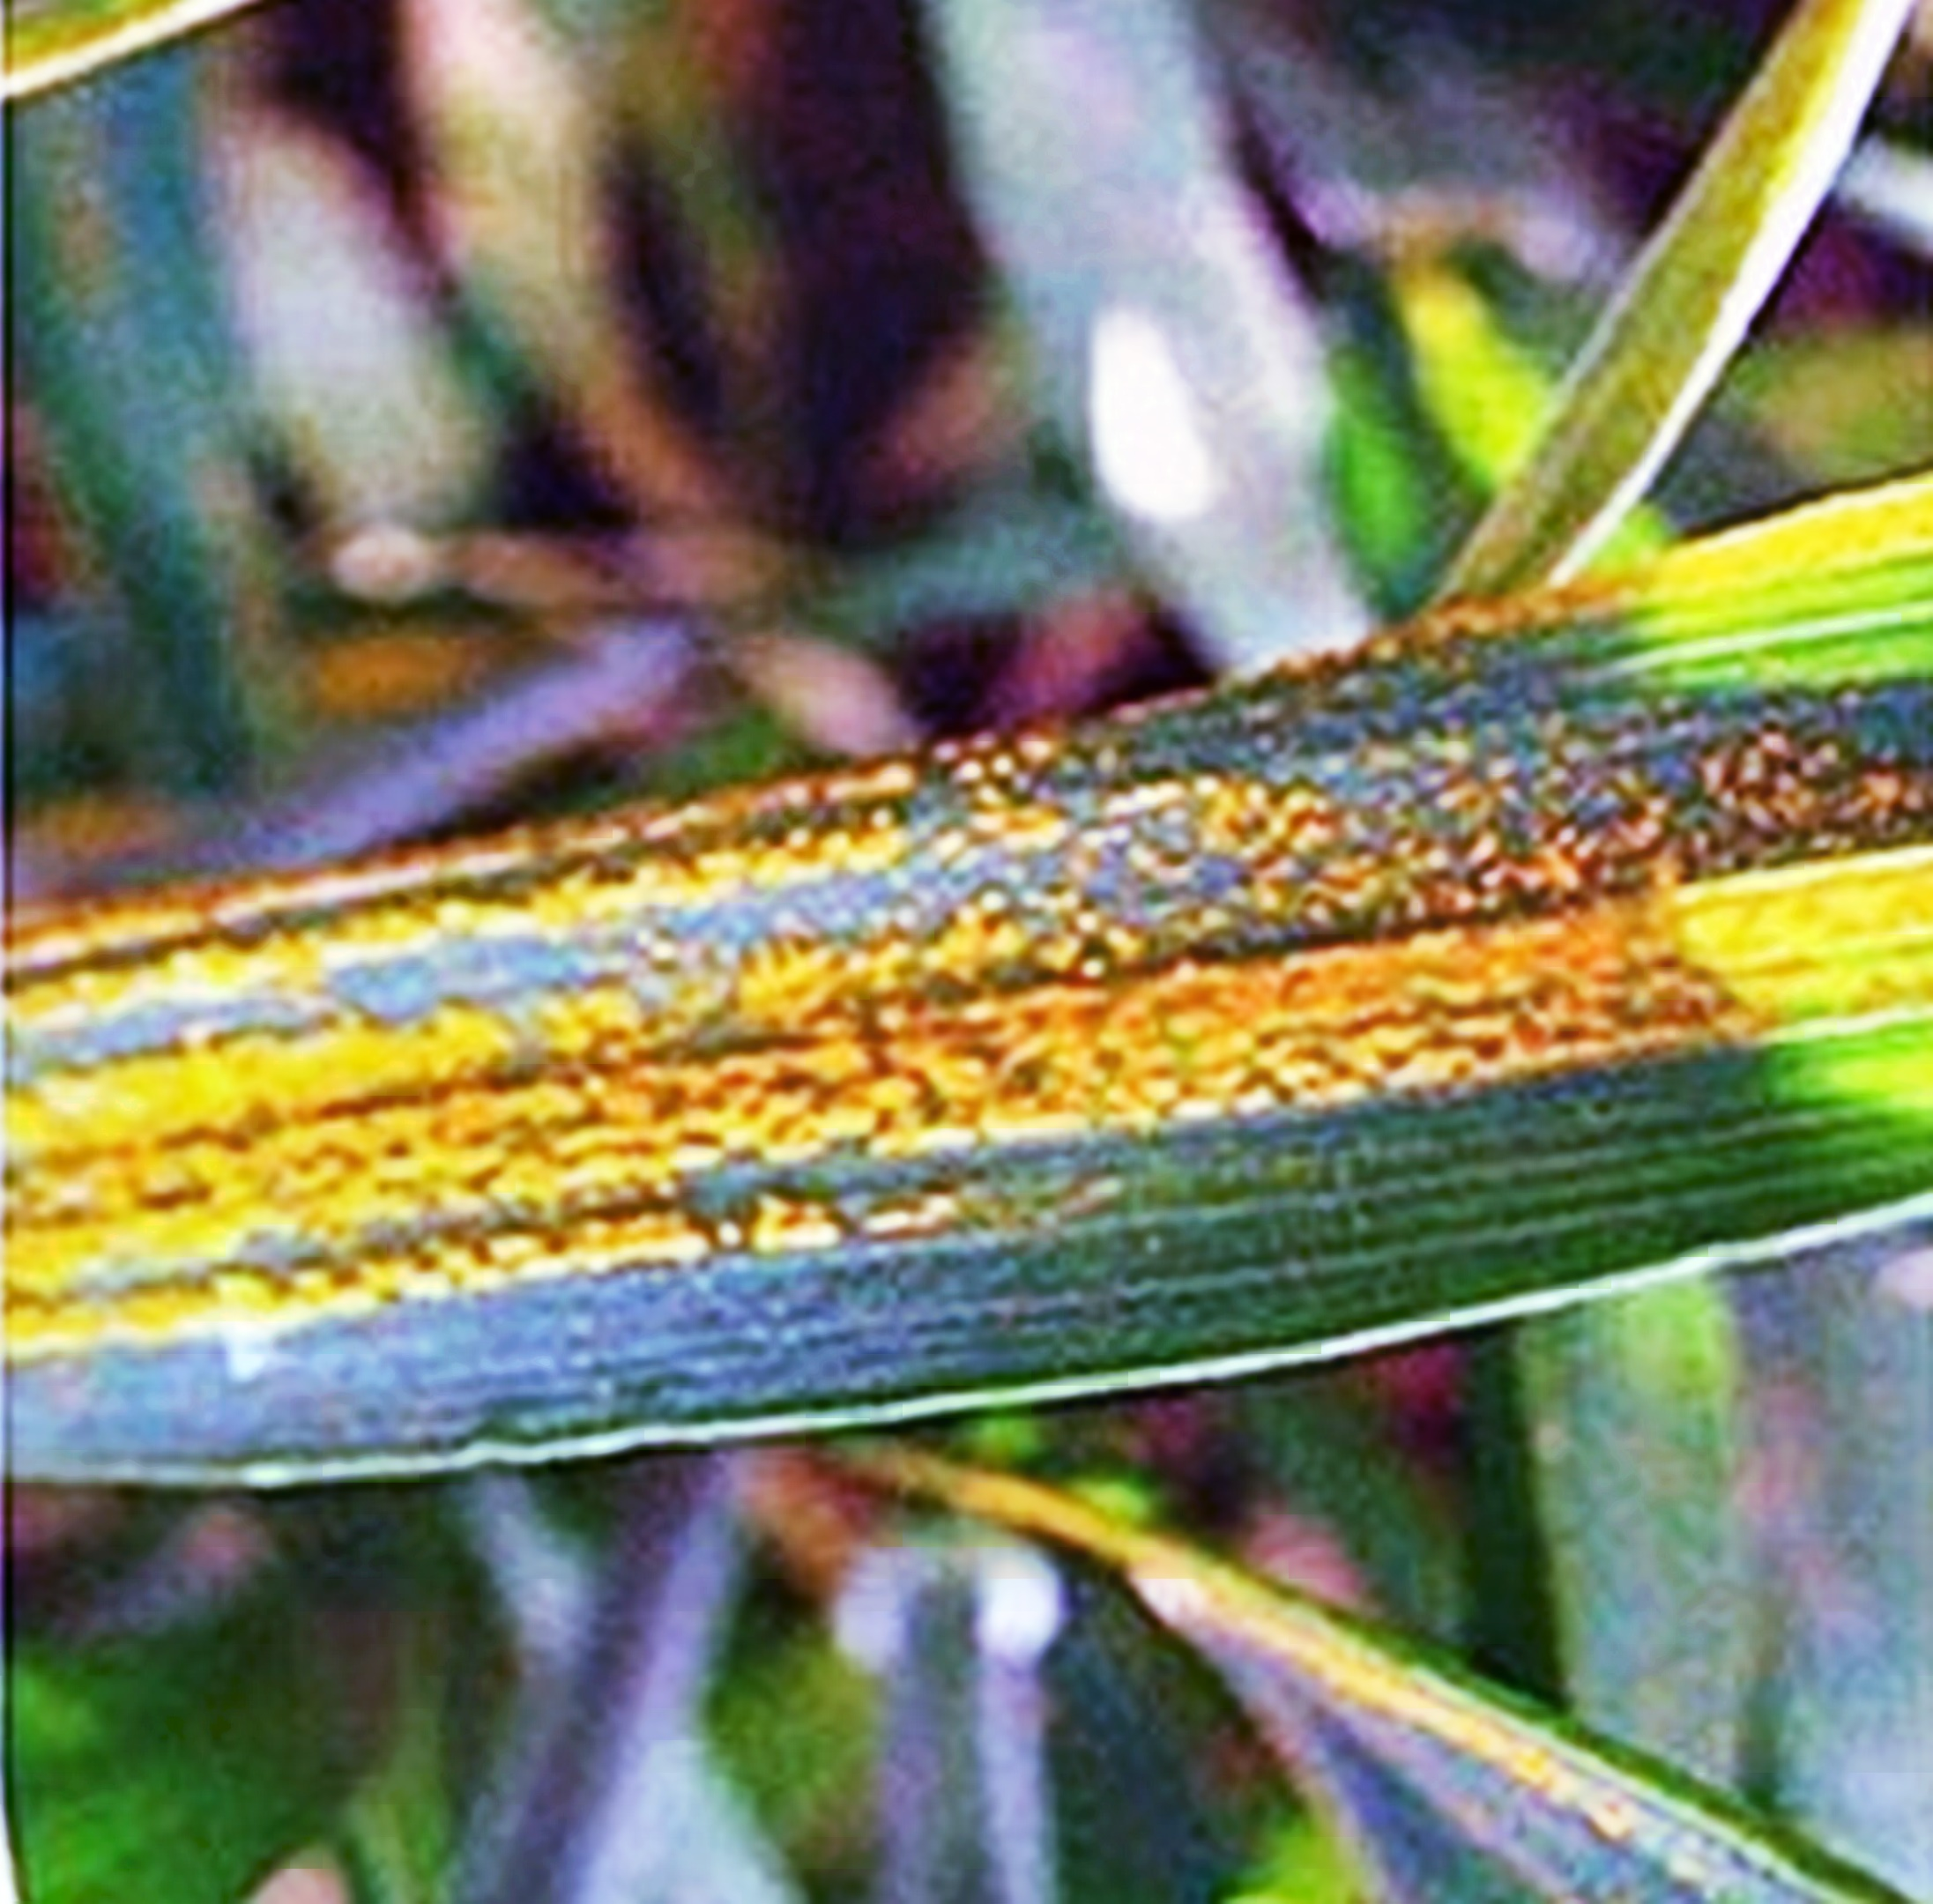Leaf Rust: (131, 558, 1640, 1468)
